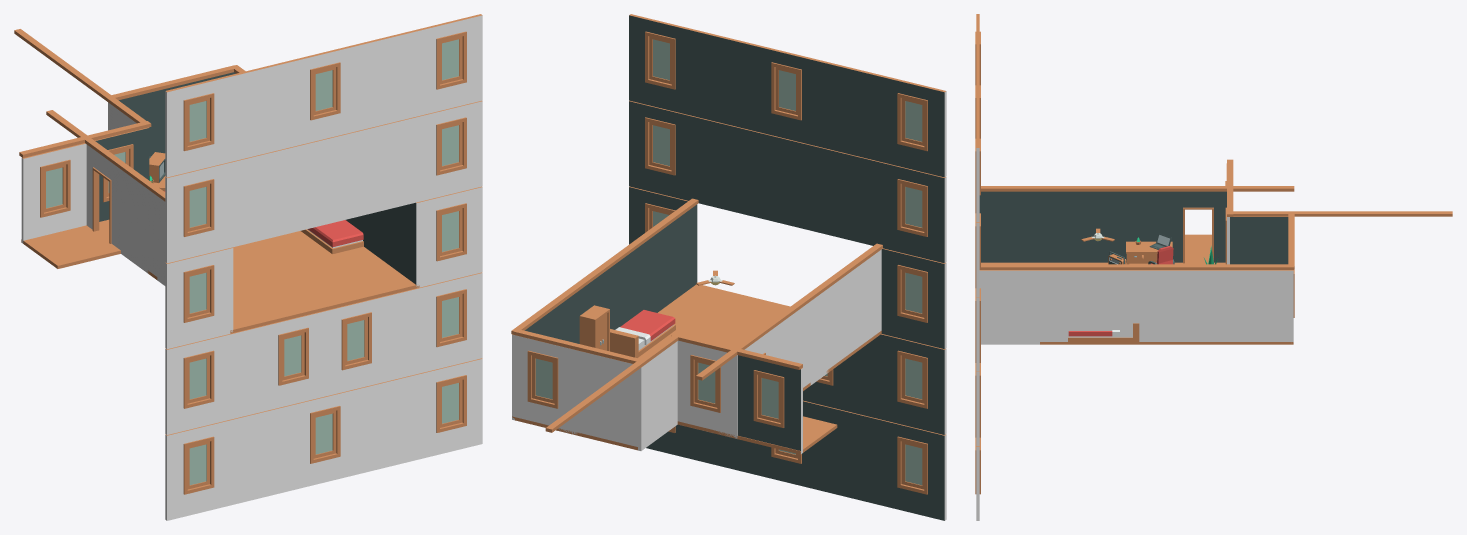
File: room.obj
The picture shows the model from 3 angles, left to right: view 1: azimuth 30°, elevation 25°; view 2: azimuth 150°, elevation 25°; view 3: azimuth 270°, elevation 25°; orthographic projection. The views are drawn at different scales.
Parts seen in each view (by area): view 1: wallWindow.014_wallWindow.019, wallWindow.011_wallWindow.016, wallWindow.006_wallWindow.013, wallWindow.002_wallWindow.005, wallWindow.009_wallWindow.012, wallWindow.015_wallWindow.020, wallWindow.016_wallWindow.021, wall.006_wall.020, wall.008_wall.021, wallWindow.005_wallWindow.007, wallWindow.007_wallWindow.010, wallWindow.010_wallWindow.015 (+29 smaller); view 2: wall.007, wall, wallWindow.014_wallWindow.019, wallWindow.002_wallWindow.005, wallWindow.011_wallWindow.016, wallWindow.009_wallWindow.012, wallWindow.006_wallWindow.013, wall.008_wall.021, wallWindow.016_wallWindow.021, wall.006_wall.020, wallWindow.015_wallWindow.020, wall.012_wall.002 (+28 smaller); view 3: wall.007, wall, wall.001, wallDoorway, floorFull.015_floorFull.029, floorFull.016_floorFull.030, floorFull.019_floorFull.033, bedSingle, floorFull.005, desk.
Boxes of the visible parts, x1,y1,x2,y2 form: wallWindow.014_wallWindow.019: (165, 75, 230, 177); wallWindow.011_wallWindow.016: (165, 420, 230, 520); wallWindow.006_wallWindow.013: (165, 162, 230, 263); wallWindow.002_wallWindow.005: (165, 334, 230, 434); wallWindow.009_wallWindow.012: (165, 248, 230, 349); wallWindow.015_wallWindow.020: (292, 45, 356, 146); wallWindow.016_wallWindow.021: (418, 14, 482, 115); wall.006_wall.020: (229, 60, 293, 161); wall.008_wall.021: (355, 29, 419, 131); wallWindow.005_wallWindow.007: (419, 272, 482, 373); wallWindow.007_wallWindow.010: (419, 186, 482, 287); wallWindow.010_wallWindow.015: (419, 100, 482, 201); wall.007: (512, 204, 697, 420); wall: (774, 249, 881, 387); wallWindow.014_wallWindow.019: (881, 75, 946, 177); wallWindow.002_wallWindow.005: (881, 334, 946, 434); wallWindow.011_wallWindow.016: (881, 420, 946, 520); wallWindow.009_wallWindow.012: (881, 248, 946, 348); wallWindow.006_wallWindow.013: (881, 162, 946, 263); wall.008_wall.021: (692, 29, 756, 130); wallWindow.016_wallWindow.021: (629, 14, 693, 115); wall.006_wall.020: (818, 60, 882, 161); wallWindow.015_wallWindow.020: (755, 45, 819, 146); wall.012_wall.002: (755, 131, 818, 232); wall.007: (979, 270, 1293, 344); wall: (979, 191, 1166, 262); wall.001: (1230, 216, 1288, 264); wallDoorway: (1166, 191, 1226, 263); floorFull.015_floorFull.029: (981, 264, 1294, 269); floorFull.016_floorFull.030: (981, 186, 1294, 191); floorFull.019_floorFull.033: (1231, 211, 1452, 216); bedSingle: (1068, 323, 1139, 342); floorFull.005: (1185, 234, 1211, 261); desk: (1126, 241, 1172, 264).
Bounding box in the file's own units: 5.01 × 6.49 × 7.53.
